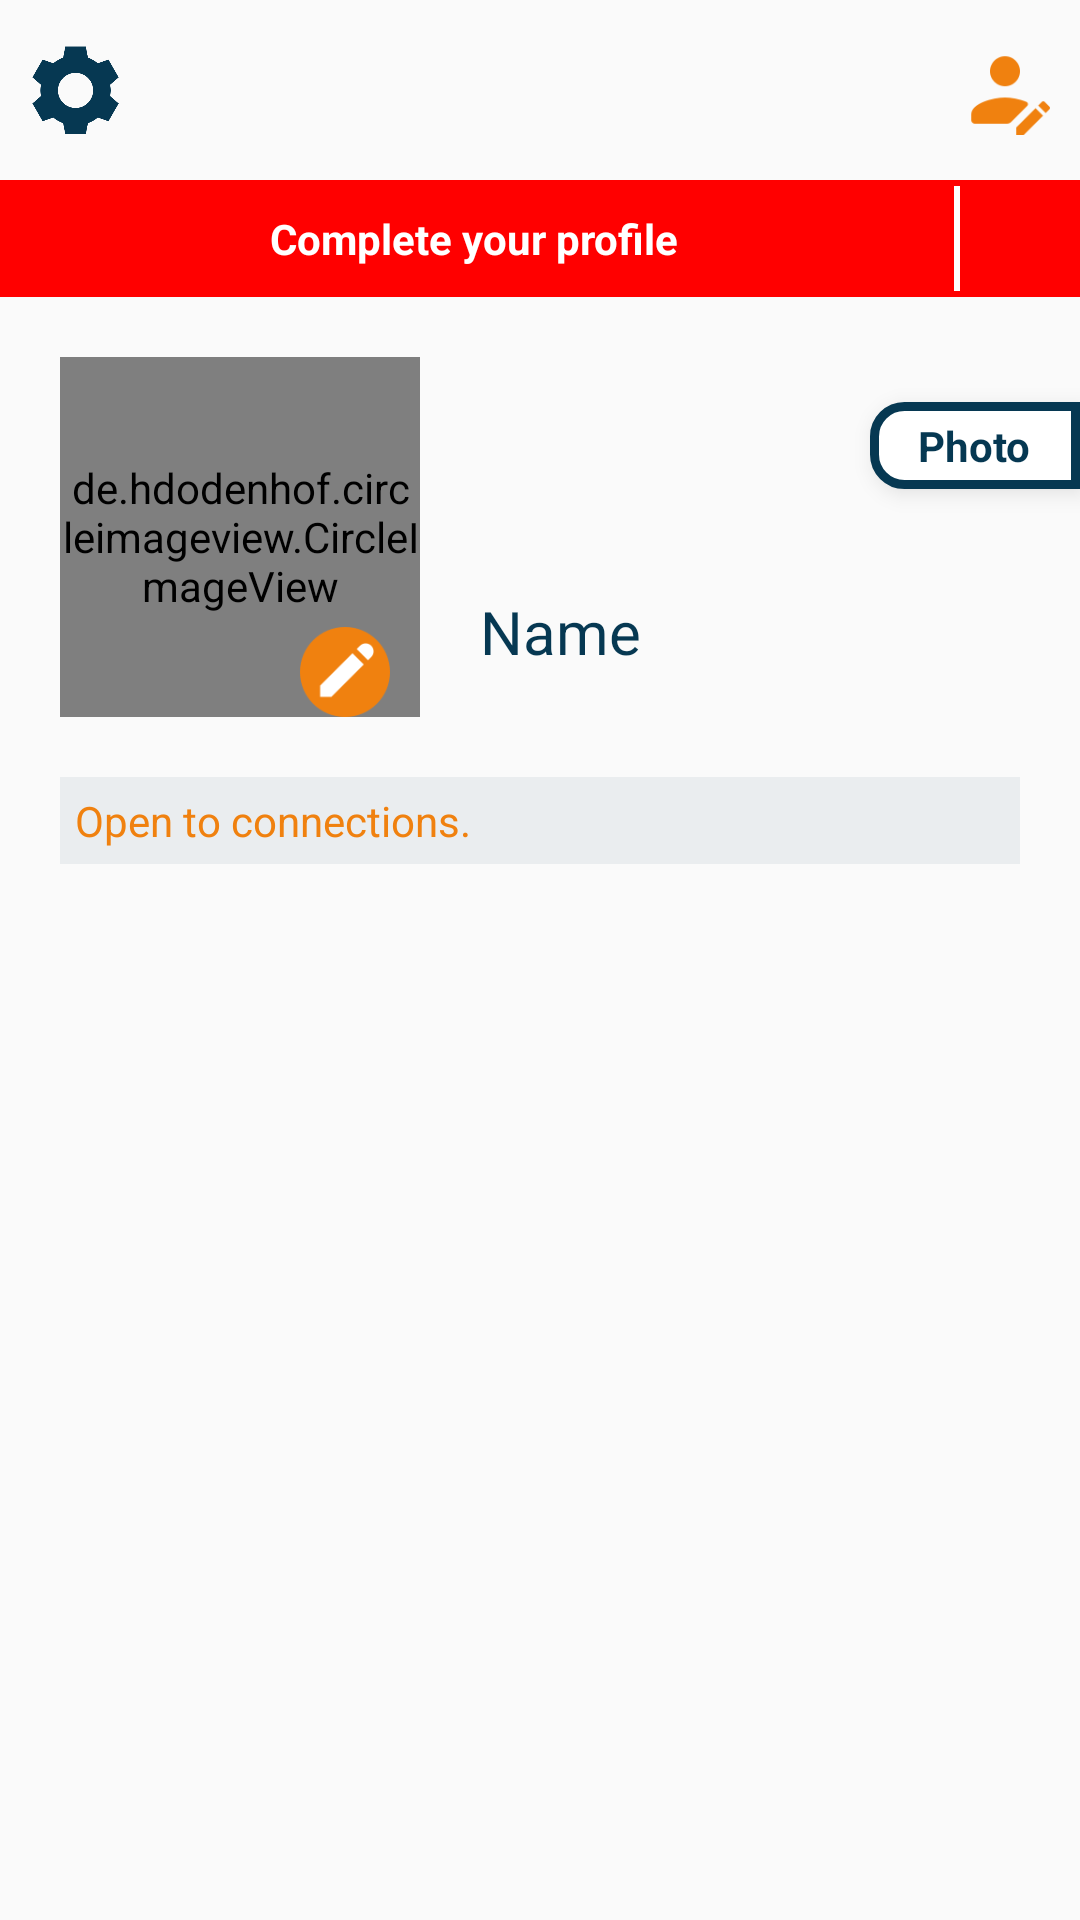

Icon click points for this 1080 x 1920 phone screenshot, format [x,y]:
edit: [345,672]
registration: [1010,95]
settings: [75,90]
